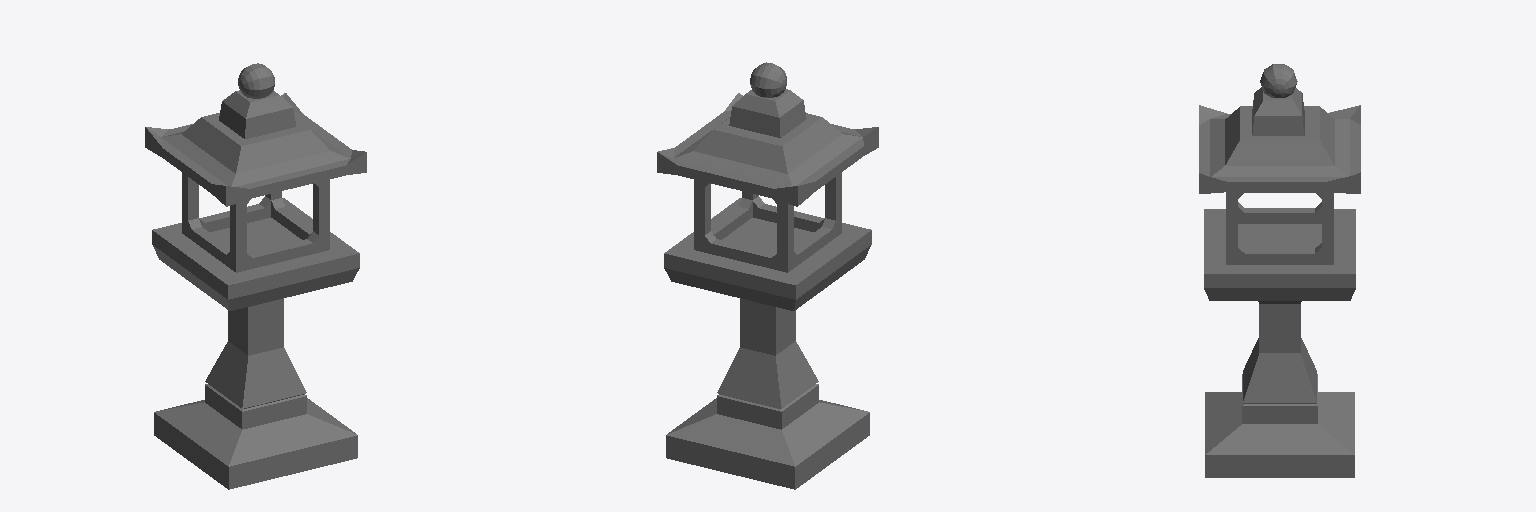
File: Lantern_01.obj
The picture shows the model from 3 angles: view 1: azimuth 30°, elevation 25°; view 2: azimuth 150°, elevation 25°; view 3: azimuth 270°, elevation 25°; orthographic projection.
Parts seen in each view (by area): view 1: lantBase, lantCap, lantHearth, lantSphere; view 2: lantBase, lantCap, lantHearth, lantSphere; view 3: lantBase, lantCap, lantHearth, lantSphere.
Part boxes in pixels (bbox=[...]): lantBase: bbox=[152, 198, 359, 489]; lantCap: bbox=[145, 90, 366, 206]; lantHearth: bbox=[182, 173, 329, 272]; lantSphere: bbox=[238, 63, 274, 98]; lantBase: bbox=[664, 198, 871, 489]; lantCap: bbox=[657, 89, 878, 206]; lantHearth: bbox=[694, 173, 841, 272]; lantSphere: bbox=[750, 62, 786, 97]; lantBase: bbox=[1204, 209, 1355, 477]; lantCap: bbox=[1199, 87, 1360, 193]; lantHearth: bbox=[1226, 192, 1333, 264]; lantSphere: bbox=[1260, 64, 1297, 97].
Size of the model in its own units: 1.08 by 2.81 by 1.08.